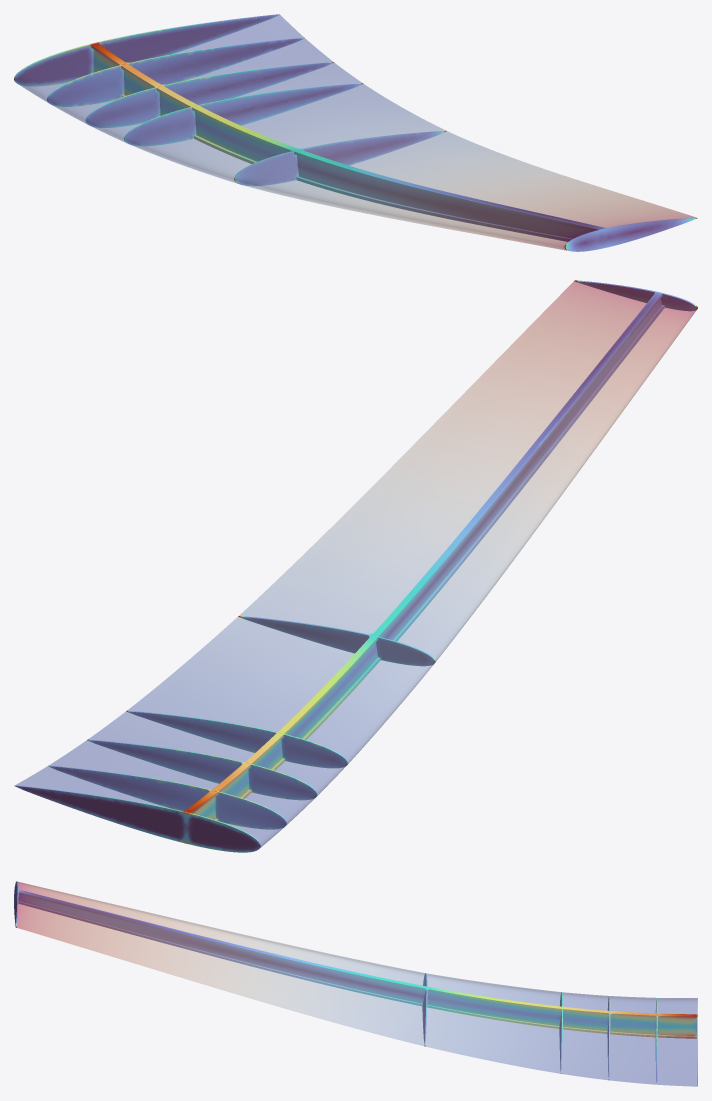
3 renders of one model, top to bottom at view 1: azimuth 30°, elevation 25°; view 2: azimuth 150°, elevation 25°; view 3: azimuth 270°, elevation 25°, orthographic. The views are drawn at different scales.
Size of the model in its own units: 300 by 239 by 1004.
